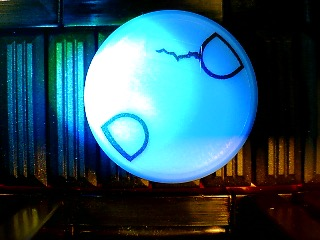CRACK: (84, 9, 259, 184)
